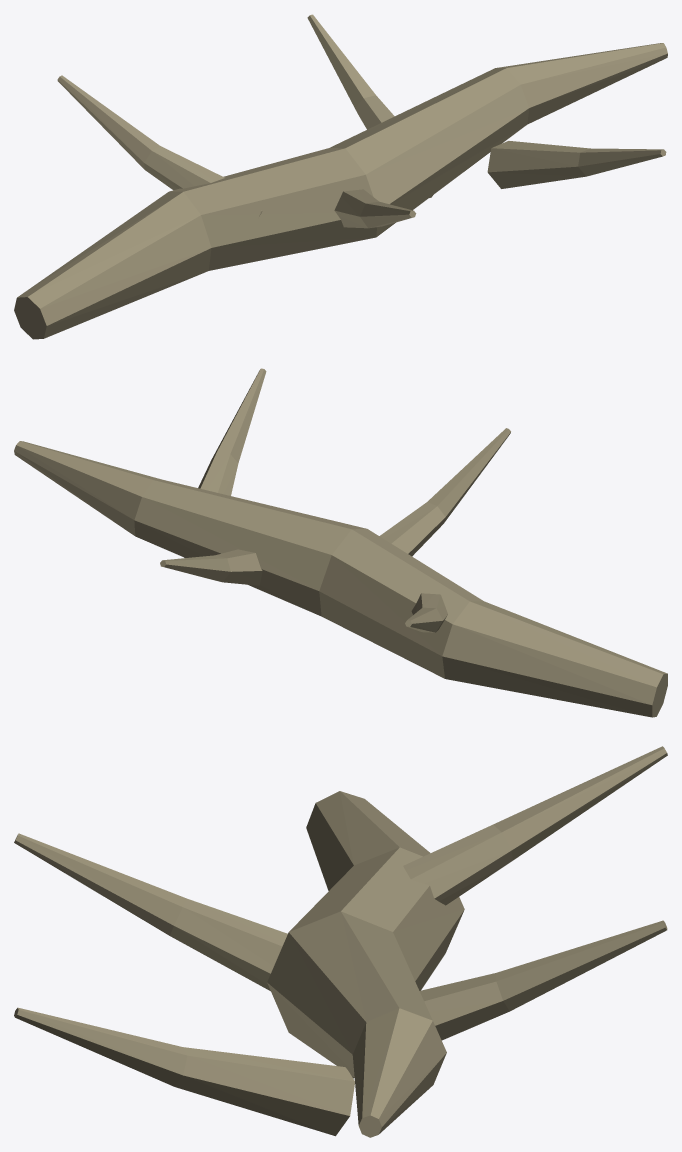
The model's file is Prop_Common_ForkedDriftwood_001.glb.
3 views of the same model, one above another, from view 1: azimuth 30°, elevation 25°; view 2: azimuth 150°, elevation 25°; view 3: azimuth 270°, elevation 25° (orthographic). The views are drawn at different scales.
Parts seen in each view (by area): view 1: Prop_Common_ForkedDriftwood_001; view 2: Prop_Common_ForkedDriftwood_001; view 3: Prop_Common_ForkedDriftwood_001.
Boxes of the visible parts, bbox=[...] form: Prop_Common_ForkedDriftwood_001: bbox=[14, 14, 667, 339]; Prop_Common_ForkedDriftwood_001: bbox=[14, 368, 667, 717]; Prop_Common_ForkedDriftwood_001: bbox=[14, 746, 667, 1137].
Size of the model in its own units: 3.64 by 0.7831 by 2.22.
